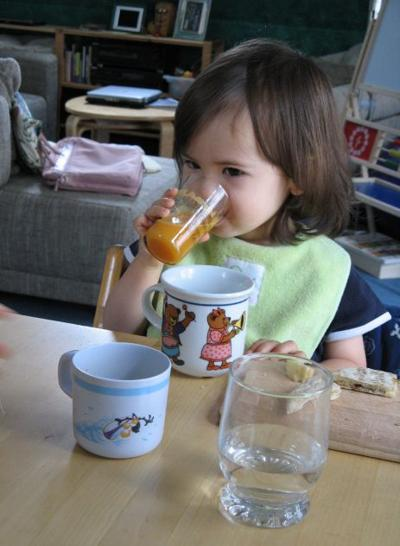person: (101, 36, 392, 370)
